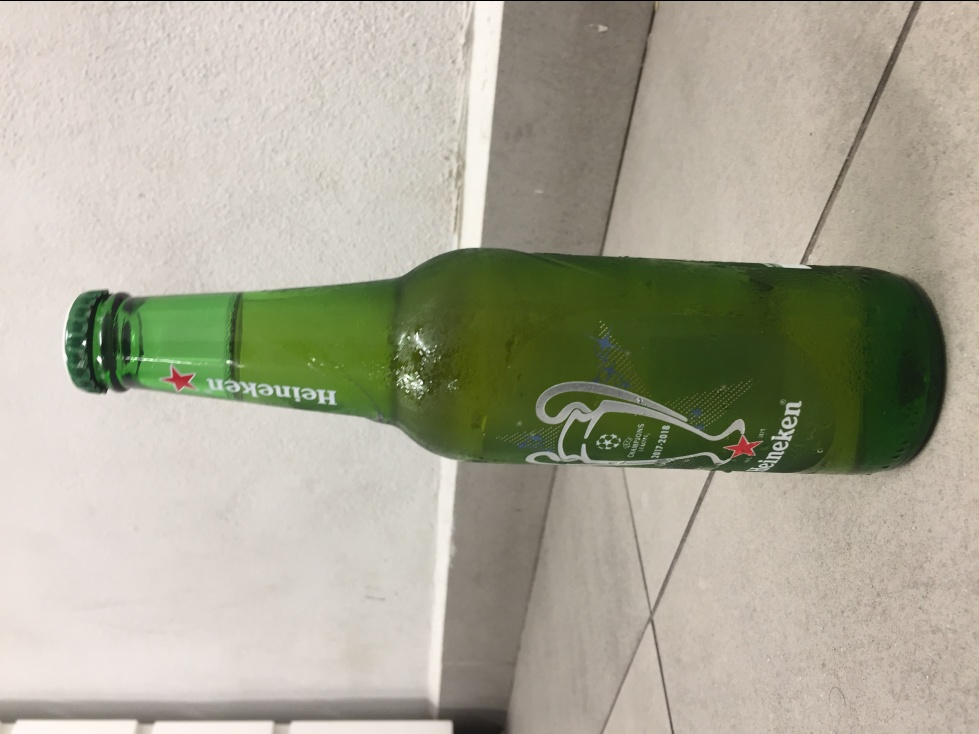heineken: (61, 244, 948, 477)
